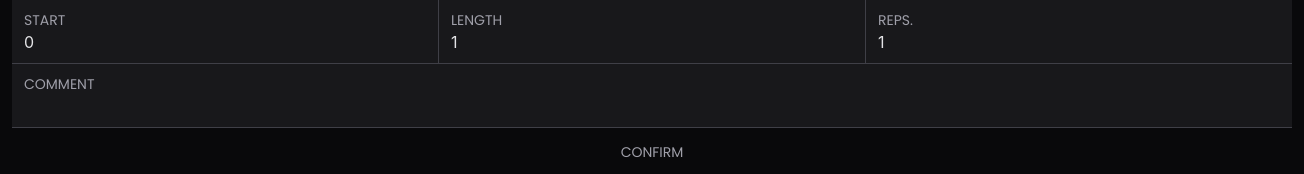
Scenario: Pattern form › When I change the starter point of a pattern, the app prevents me from setting it longer than the song
The width and height of the screenshot is (1304, 174).
Click the number field labelled "length" at (652, 42), box [451,30,853,54]
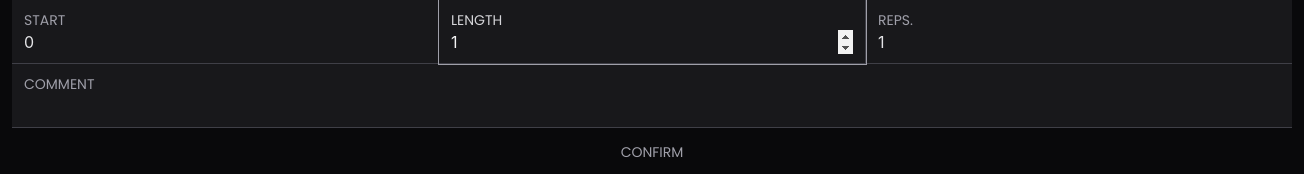
Type keys "backspace"
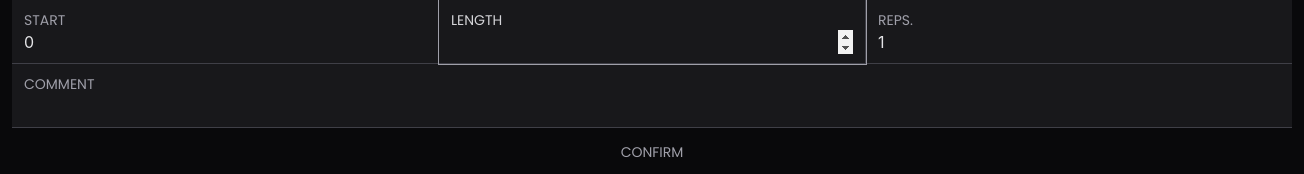
Type "5" into the number field labelled "length" at (652, 42), box [451,30,853,54]
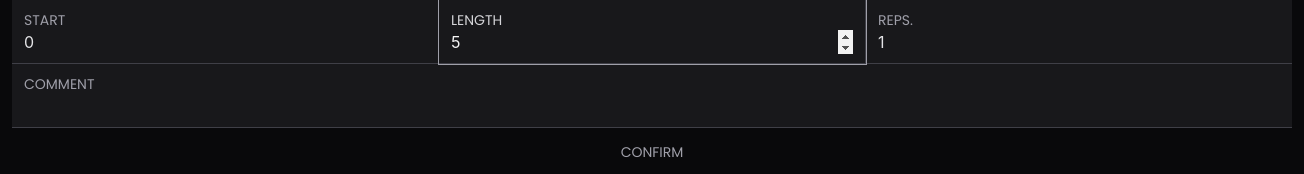
Click the number field labelled "start" at (225, 42), box [24,30,426,54]
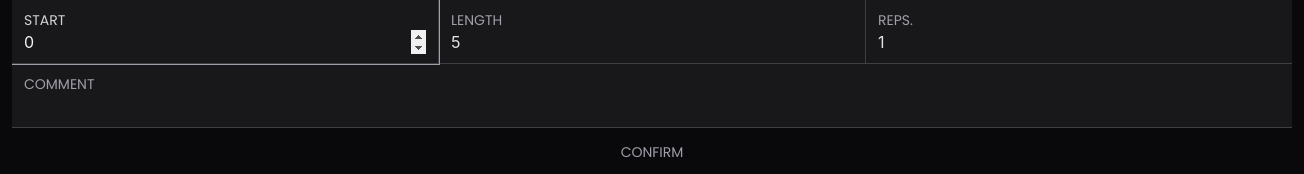
Type keys "backspace"
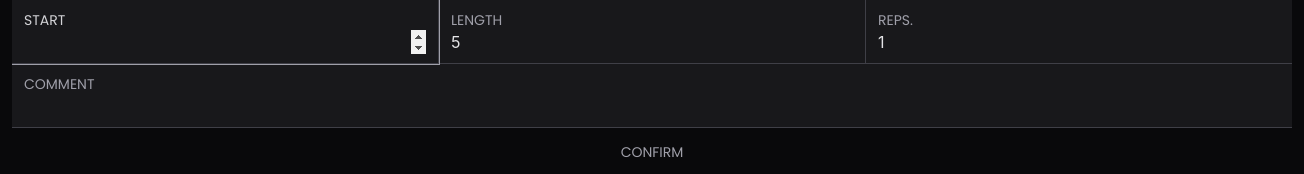
Type "6" into the number field labelled "start" at (225, 42), box [24,30,426,54]
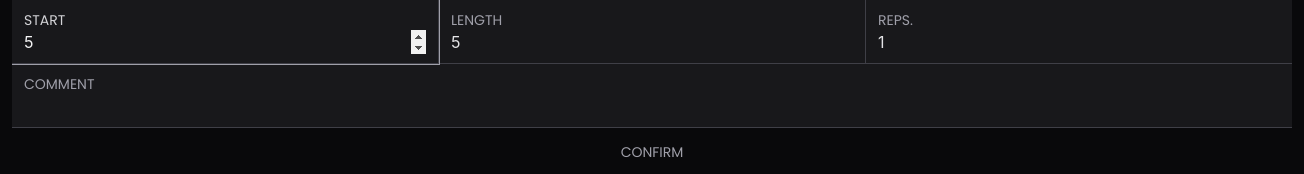
Result: the number field labelled "start" holds "5" at [24,30,426,54]
